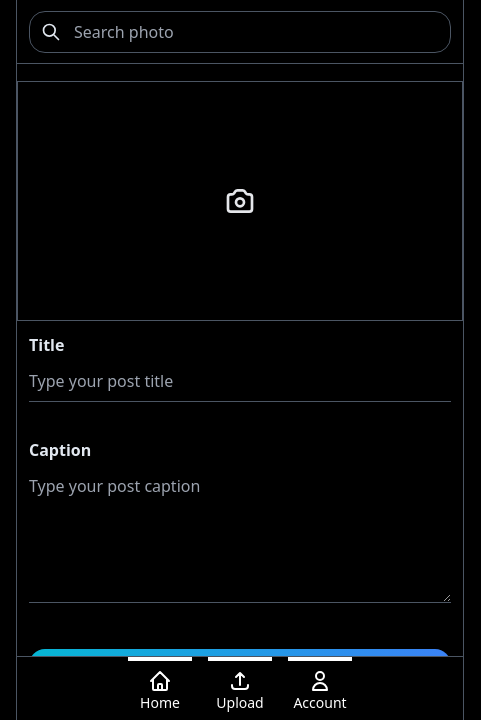
upload testing › error pada input pasword
In the text box with test id "input-caption": (240, 534) x1=29 y1=466 x2=451 y2=603, type "a"
Then press Backspace
Press Tab
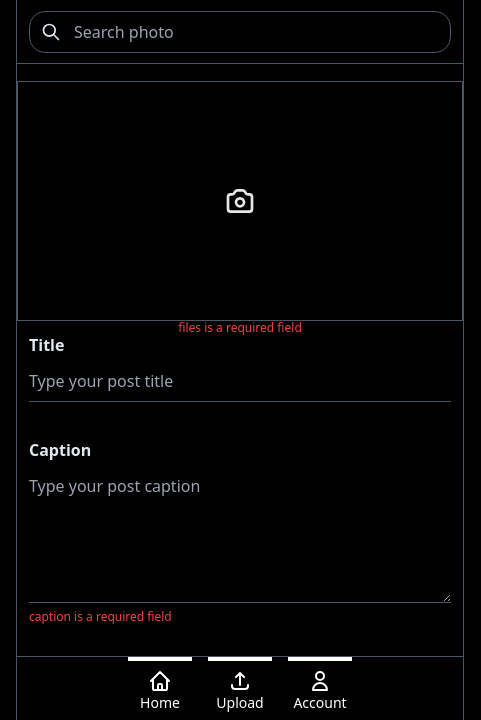
Result: the text "caption is a required field" is shown at x1=29 y1=608 x2=172 y2=625
